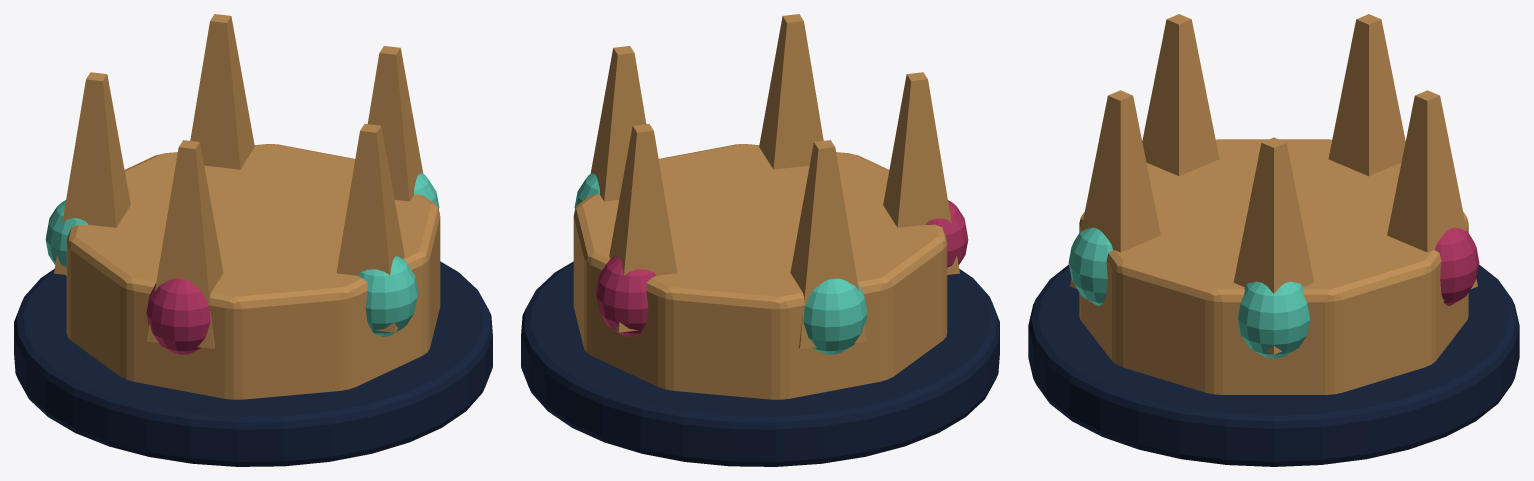
The model's file is hat_crown.fbx.
3 views of the same model, side by side, from view 1: azimuth 30°, elevation 25°; view 2: azimuth 150°, elevation 25°; view 3: azimuth 270°, elevation 25° (orthographic). The views are drawn at different scales.
Visible parts, largest first — view 1: hat_crown.Mesh; view 2: hat_crown.Mesh; view 3: hat_crown.Mesh.
Part boxes in pixels (x1,y1,x2,y2): hat_crown.Mesh: [14, 14, 492, 466]; hat_crown.Mesh: [521, 14, 999, 466]; hat_crown.Mesh: [1028, 14, 1519, 466].
Bounding box in the file's own units: 70 × 46 × 70.
